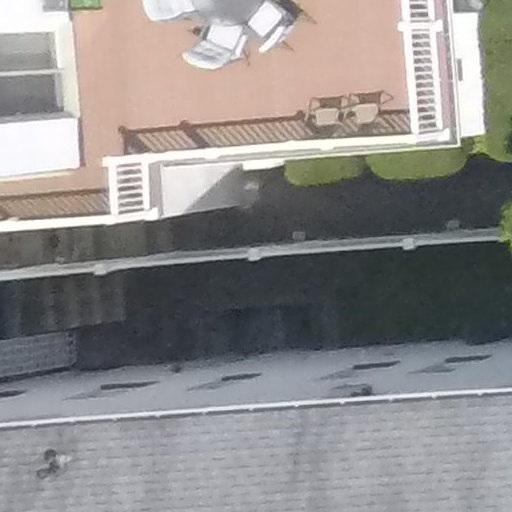chair: (247, 4, 319, 61), (177, 23, 252, 67)
